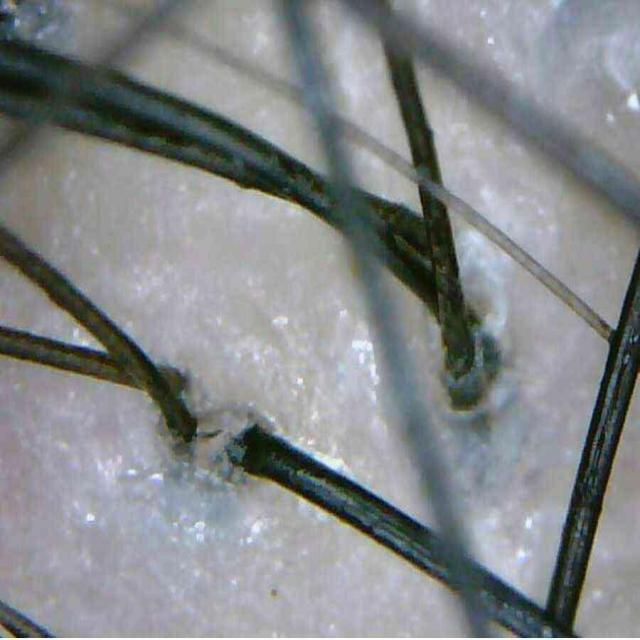d: (455, 228, 514, 338)
o: (217, 311, 319, 436), (67, 430, 182, 537), (169, 484, 283, 560), (338, 294, 383, 409)
